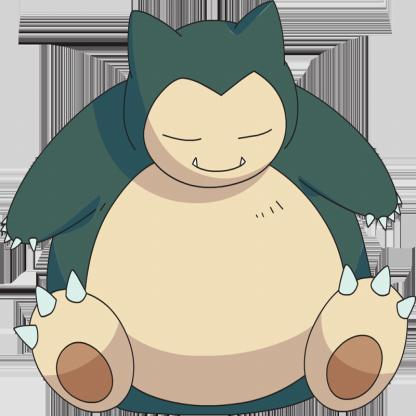Snorlax: (1, 2, 416, 416)
